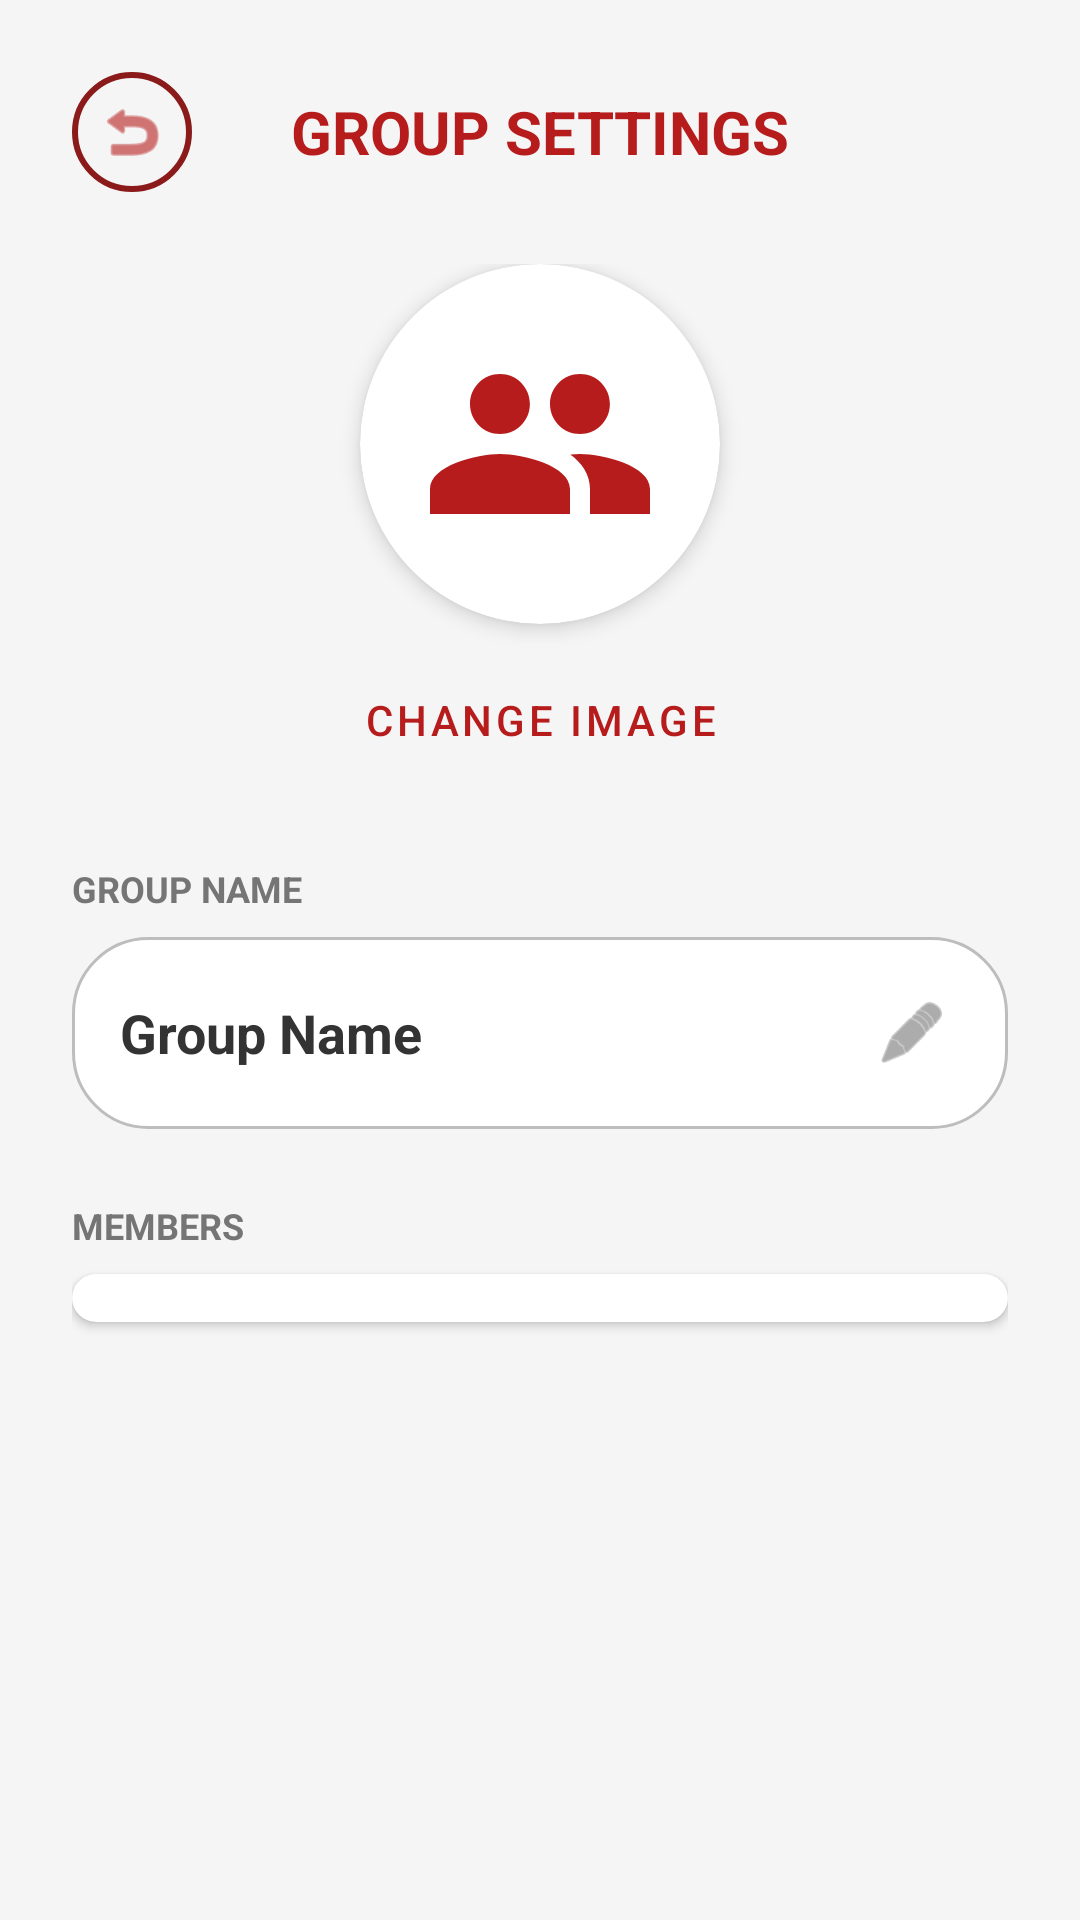

Locate icon controls on the screen. Image size 1080 × 1920, boxes as (x1, y1, x2, y2).
edit: (881, 1002, 942, 1063)
revert: (72, 72, 192, 192)
